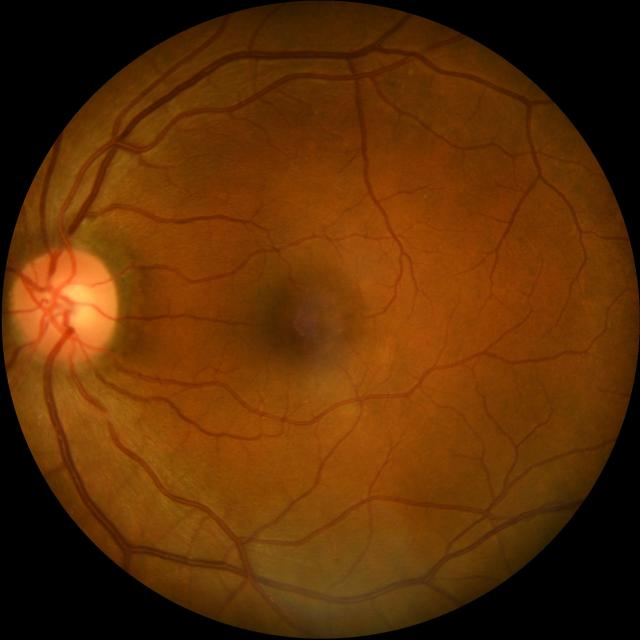OC: (46, 278, 94, 330)
OD: (13, 249, 113, 360)
